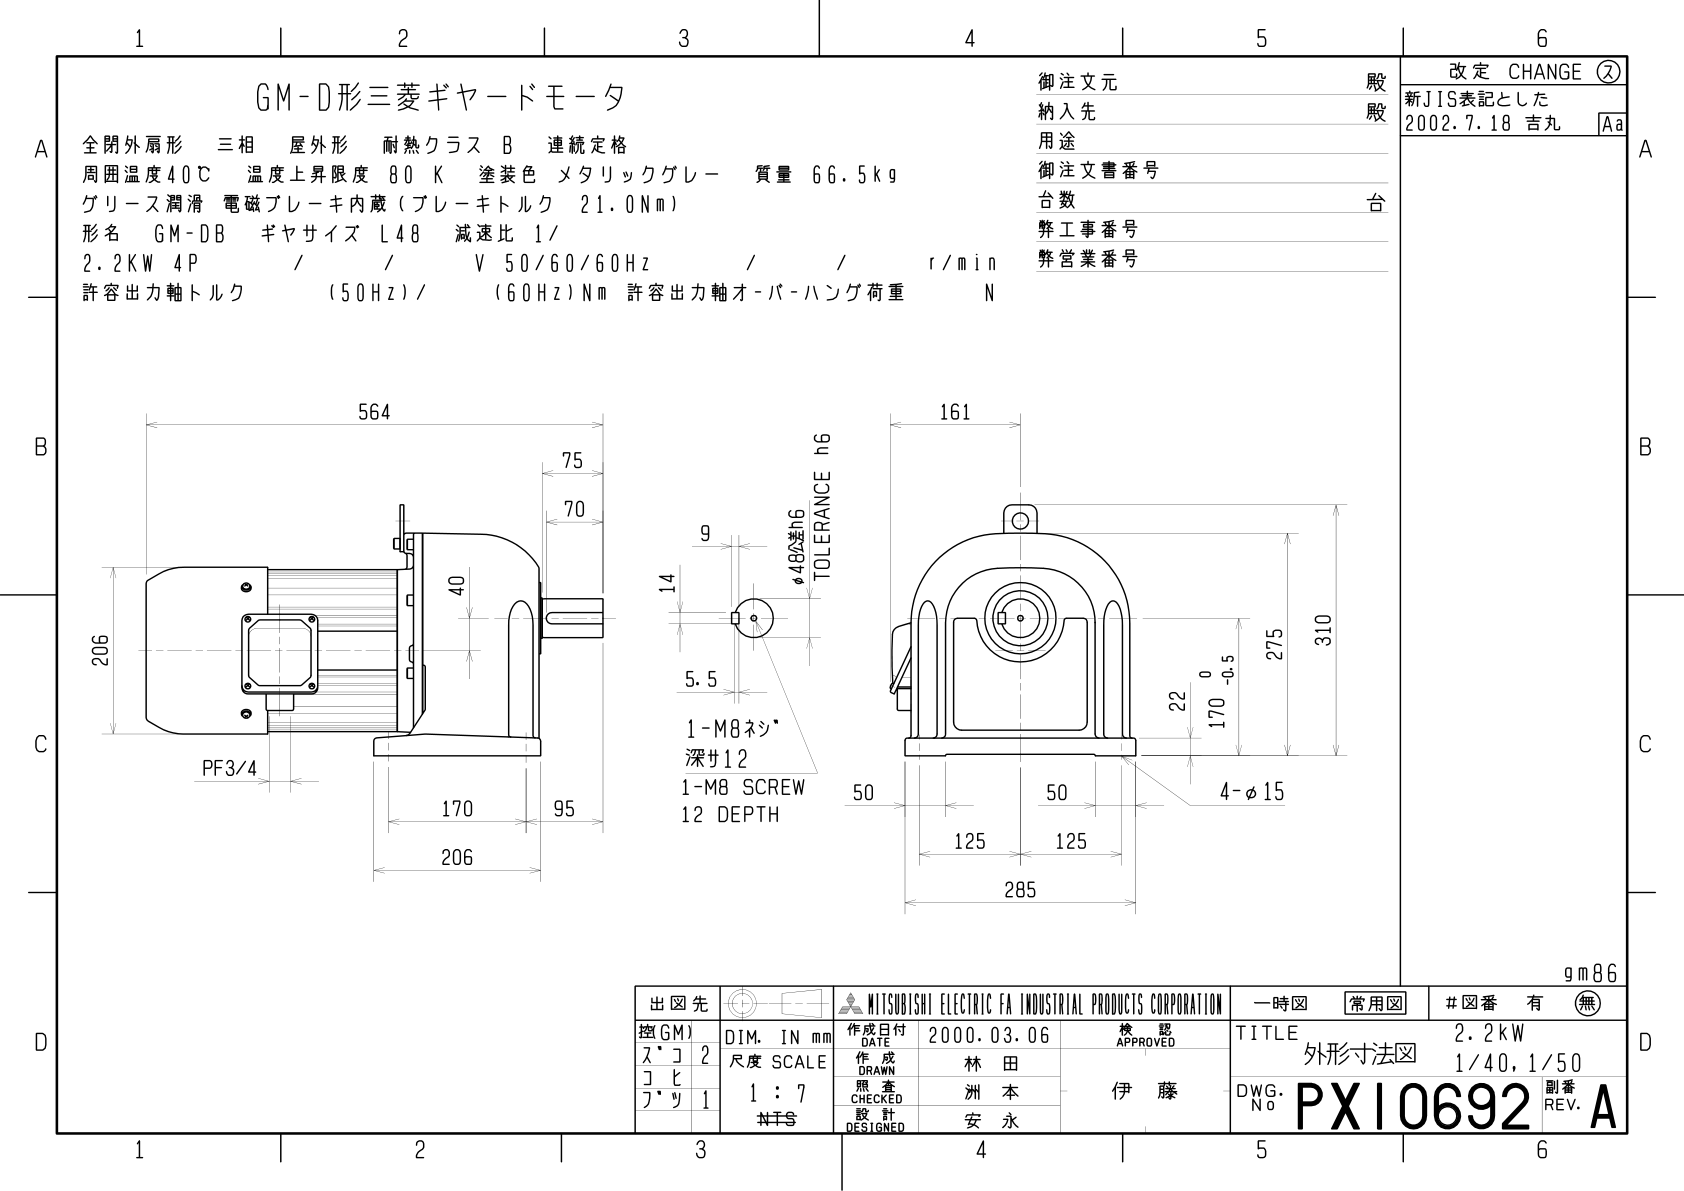GM_D_屋外＿三相_脚: (15, 15, 1684, 1188)
